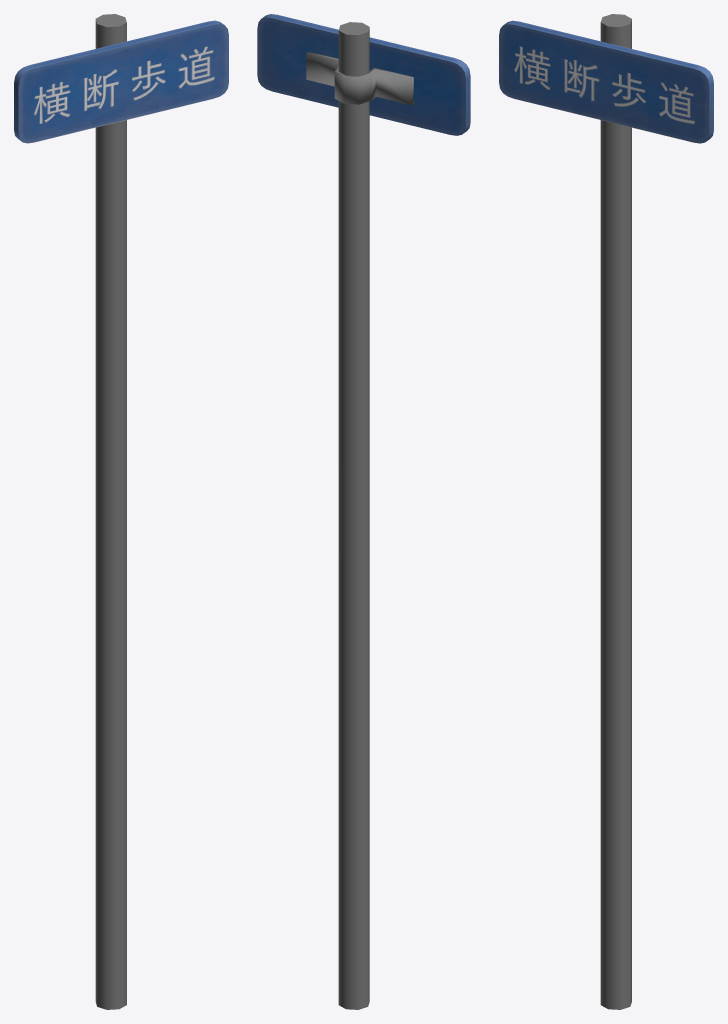
Rendered from SM_sign_traffic_017.fbx.
3 renders of one model, left to right at view 1: azimuth 30°, elevation 25°; view 2: azimuth 150°, elevation 25°; view 3: azimuth 330°, elevation 25°, orthographic.
Visible parts, largest first — view 1: Object32708; view 2: Object32708; view 3: Object32708.
Boxes of the visible parts, x1,y1,x2,y2 form: Object32708: (14,14,228,1009); Object32708: (257,14,470,1009); Object32708: (499,14,713,1009).
Bounding box in the file's own units: 17.95 × 80.23 × 3.35.
